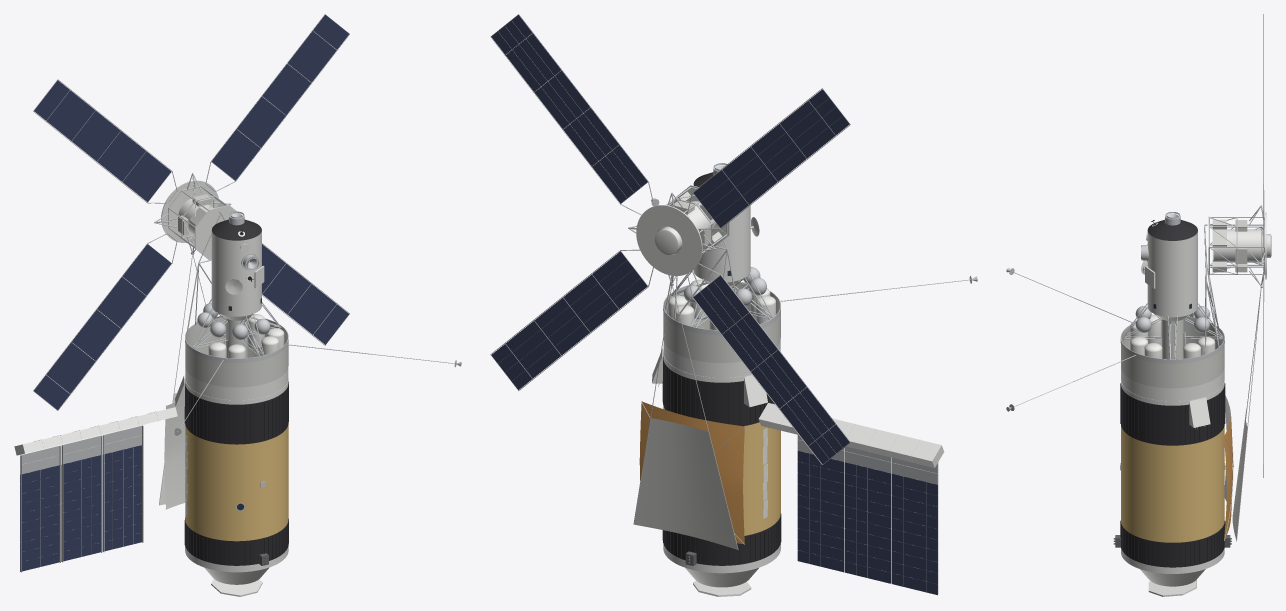
The model's file is workshop.glb.
The picture shows the model from 3 angles, left to right: view 1: azimuth 30°, elevation 25°; view 2: azimuth 150°, elevation 25°; view 3: azimuth 270°, elevation 25°; orthographic projection. The views are drawn at different scales.
Visible parts, largest first — view 1: SAS_Wing1_Cells, OWS_HabitationWall, OWS_AftSkirtInner, ATM_Wing_3_Cells, ATM_Wing_1_Cells, ATM_Wing_4_Cells, SAS_Wing1_ModuleLines, ATM_Wing_2_Cells, FAS_InnerWallAndForwardDome, MDA_EarthObservationKit, ATM_Canister, Parasol_Underside (+12 smaller); view 2: SAS_Wing1_Cells, Sail_Cloth, ATM_Wing_3_Cells, ATM_Wing_1_Cells, ATM_Wing_2_Cells, ATM_Wing_4_Cells, OWS_AftSkirtInner, ATM_Canister, Parasol_Canopy, OWS_HabitationWall, SAS_Wing1_BeamFairing, SAS_Wing1_ModuleLines (+13 smaller); view 3: OWS_HabitationWall, OWS_AftSkirtInner, FAS_InnerWallAndForwardDome, MDA_EarthObservationKit, ATM_Canister, AM_Bellows, FAS_OxygenTanks, IU_Skin, OWS_SkirtBands, ATM_Outriggers, OWS_RefrigerationRadiator, ATM_RackEquipment (+9 smaller).
Boxes of the visible parts, x1,y1,x2,y2 form: SAS_Wing1_Cells: [20, 445, 141, 571]; OWS_HabitationWall: [185, 424, 288, 541]; OWS_AftSkirtInner: [184, 382, 288, 565]; ATM_Wing_3_Cells: [34, 244, 171, 409]; ATM_Wing_1_Cells: [211, 15, 348, 180]; ATM_Wing_4_Cells: [34, 80, 171, 202]; SAS_Wing1_ModuleLines: [20, 425, 143, 572]; ATM_Wing_2_Cells: [262, 244, 348, 344]; FAS_InnerWallAndForwardDome: [185, 316, 288, 387]; MDA_EarthObservationKit: [211, 230, 264, 299]; ATM_Canister: [161, 180, 239, 259]; Parasol_Underside: [164, 402, 185, 509]; SAS_Wing1_Cells: [797, 450, 937, 595]; Sail_Cloth: [634, 418, 737, 549]; ATM_Wing_3_Cells: [693, 275, 849, 464]; ATM_Wing_1_Cells: [491, 15, 647, 203]; ATM_Wing_2_Cells: [491, 251, 647, 389]; ATM_Wing_4_Cells: [693, 89, 849, 227]; OWS_AftSkirtInner: [662, 357, 781, 565]; ATM_Canister: [636, 185, 729, 275]; Parasol_Canopy: [639, 401, 744, 543]; OWS_HabitationWall: [663, 405, 780, 535]; SAS_Wing1_BeamFairing: [758, 403, 944, 467]; SAS_Wing1_ModuleLines: [797, 435, 938, 593]; OWS_HabitationWall: [1121, 426, 1224, 542]; OWS_AftSkirtInner: [1120, 383, 1225, 567]; FAS_InnerWallAndForwardDome: [1121, 316, 1224, 388]; MDA_EarthObservationKit: [1141, 231, 1197, 300]; ATM_Canister: [1208, 212, 1271, 279]; AM_Bellows: [1122, 303, 1222, 359]; FAS_OxygenTanks: [1130, 314, 1215, 358]; IU_Skin: [1121, 368, 1224, 401]; OWS_SkirtBands: [1121, 382, 1224, 573]; ATM_Outriggers: [1209, 205, 1264, 285]; OWS_RefrigerationRadiator: [1140, 569, 1205, 596]; ATM_RackEquipment: [1212, 219, 1247, 272].
Size of the model in its own units: 26.73 by 35.71 by 16.89.
